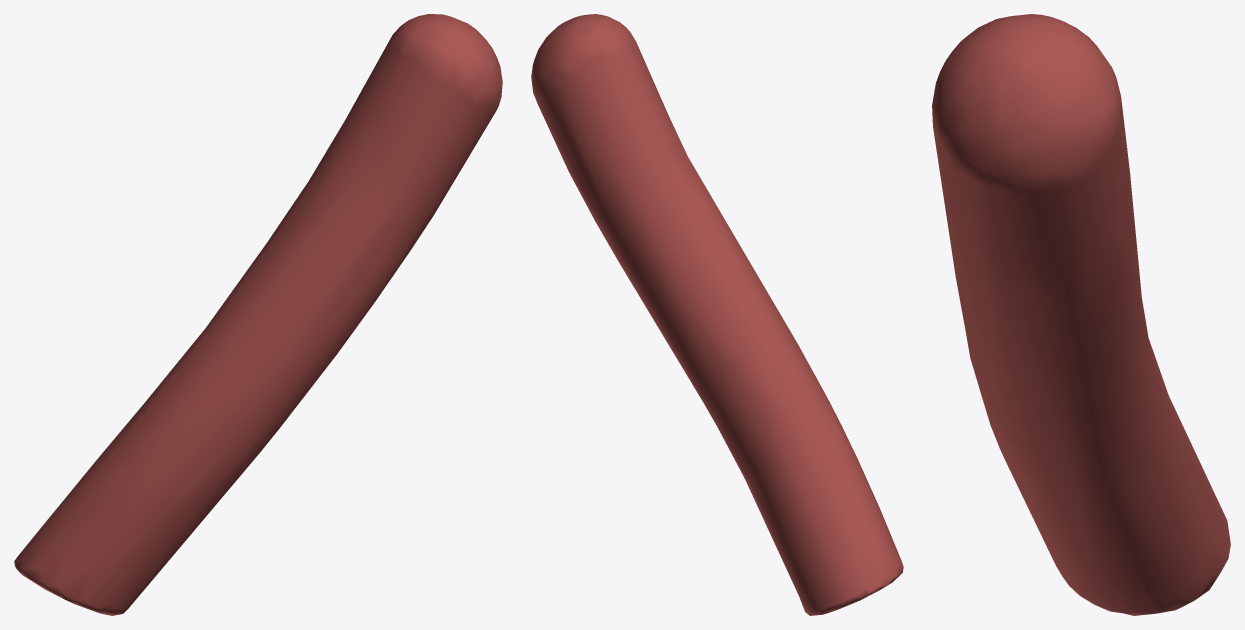
File: FMA14765.glb
3 renders of one model, left to right at view 1: azimuth 30°, elevation 25°; view 2: azimuth 150°, elevation 25°; view 3: azimuth 270°, elevation 25°, orthographic. The views are drawn at different scales.
Parts seen in each view (by area): view 1: FMA14765; view 2: FMA14765; view 3: FMA14765.
Boxes of the visible parts, box(x1,y1,x2,y2) form: FMA14765: box(14, 14, 502, 615); FMA14765: box(531, 14, 903, 615); FMA14765: box(932, 14, 1230, 615).
Bounding box in the file's own units: 0.0498 × 0.0601 × 0.0204.
